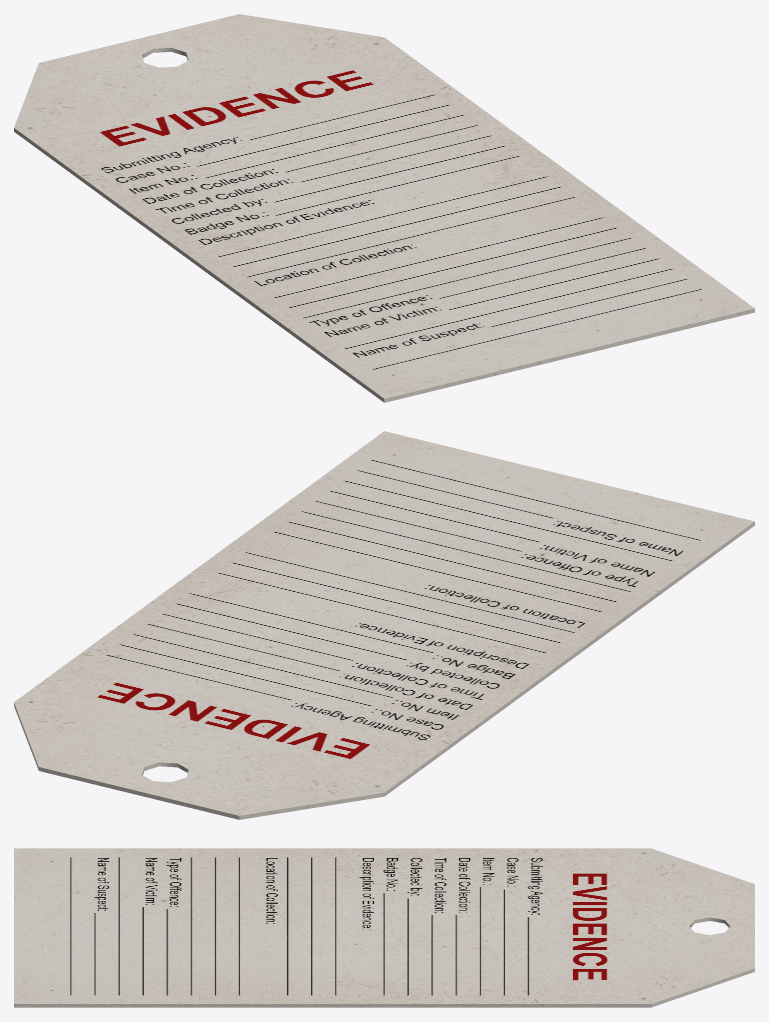
The model's file is evidence_tag_01.fbx.
3 views of the same model, one above another, from view 1: azimuth 30°, elevation 25°; view 2: azimuth 150°, elevation 25°; view 3: azimuth 270°, elevation 25° (orthographic). The views are drawn at different scales.
Visible parts, largest first — view 1: evidence_tag_01; view 2: evidence_tag_01; view 3: evidence_tag_01.
Boxes of the visible parts, x1=… form: evidence_tag_01: x1=14, y1=14, x2=754, y2=402; evidence_tag_01: x1=14, y1=431, x2=754, y2=819; evidence_tag_01: x1=14, y1=848, x2=754, y2=1007.
Bounding box in the file's own units: 32.46 × 0.3369 × 65.34.
